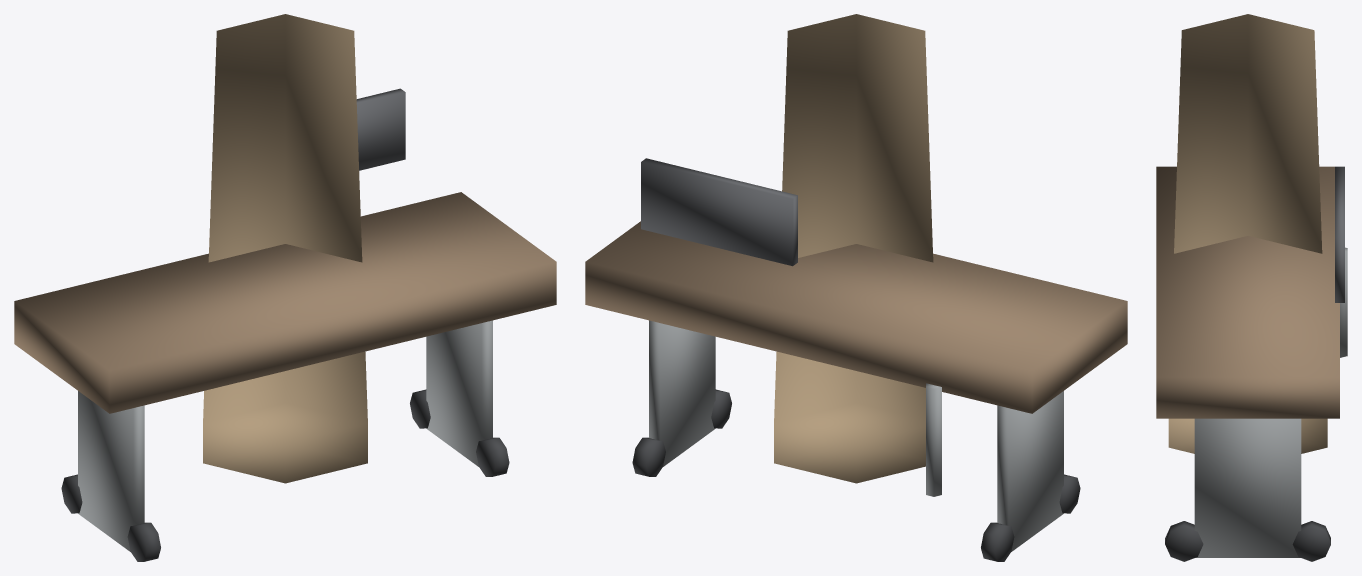
Rendered from casket_bier__service.glb.
3 views of the same model, side by side, from view 1: azimuth 30°, elevation 25°; view 2: azimuth 150°, elevation 25°; view 3: azimuth 270°, elevation 25° (orthographic). The views are drawn at different scales.
Parts seen in each view (by area): view 1: world; view 2: world; view 3: world.
Part boxes in pixels (x1,y1,x2,y2): world: (14,14,556,561); world: (585,14,1127,561); world: (1156,14,1347,561).
Size of the model in its own units: 1.95 by 1.86 by 0.7503.
